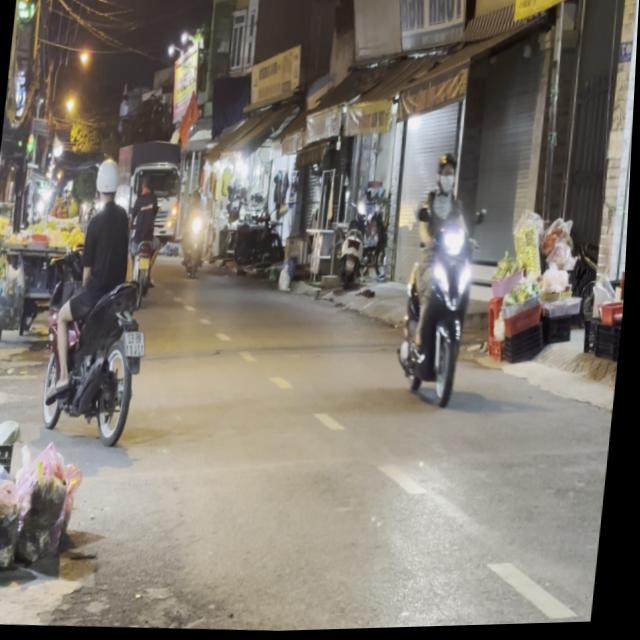helmet: (98, 157, 125, 202), (439, 151, 463, 197)
licenseplate: (41, 151, 168, 449), (395, 147, 493, 411)
nohelmet: (125, 330, 151, 357)
